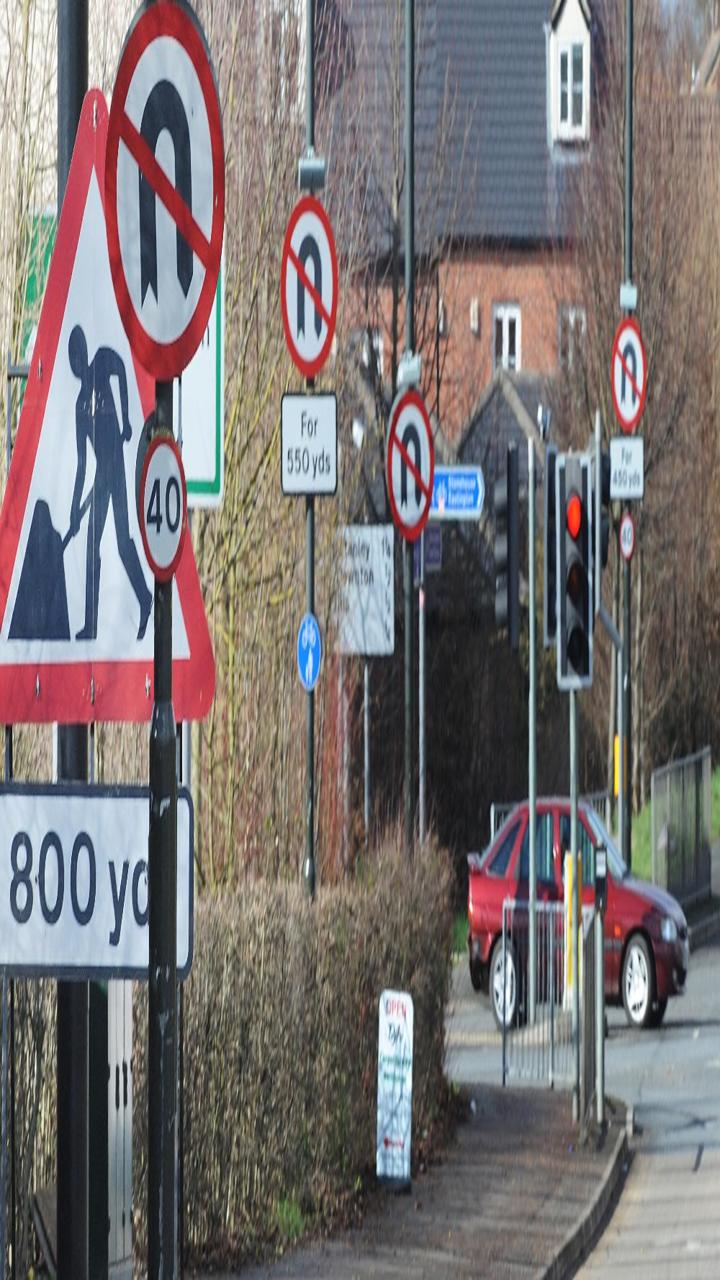Traffic sign: (64, 3, 248, 355), (1, 795, 208, 983), (248, 205, 364, 380), (354, 391, 456, 531), (130, 435, 211, 587), (599, 311, 656, 437)
